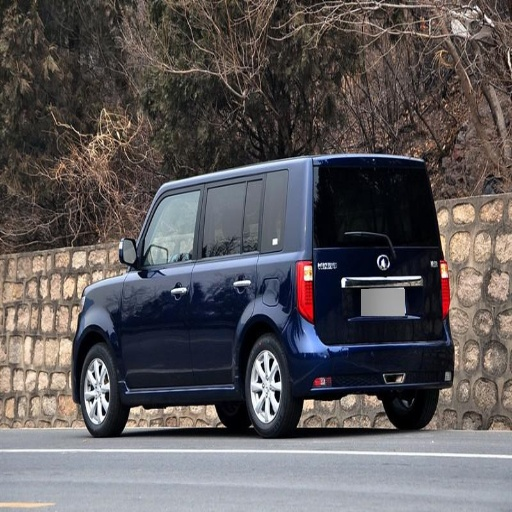back_bumper: (290, 318, 454, 390)
back_left_door: (189, 176, 262, 383)
trunk: (314, 248, 433, 363)
